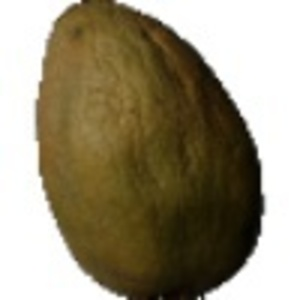mamão: (19, 2, 275, 291)
